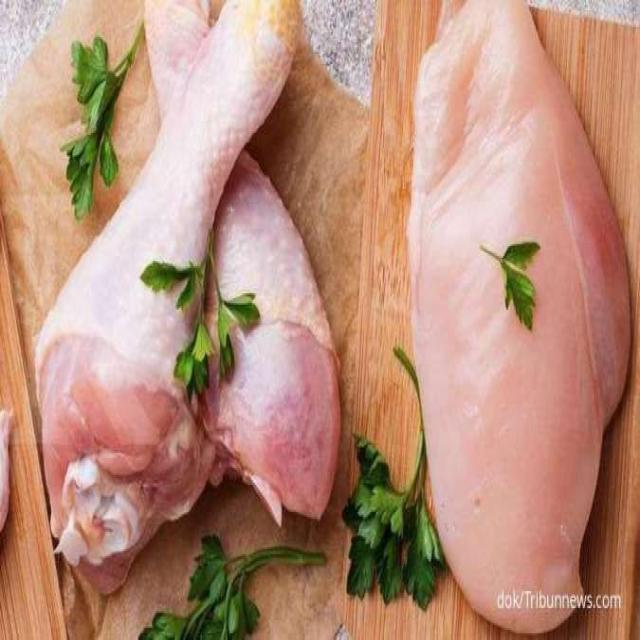chicken: (34, 0, 339, 579), (410, 1, 632, 634)
